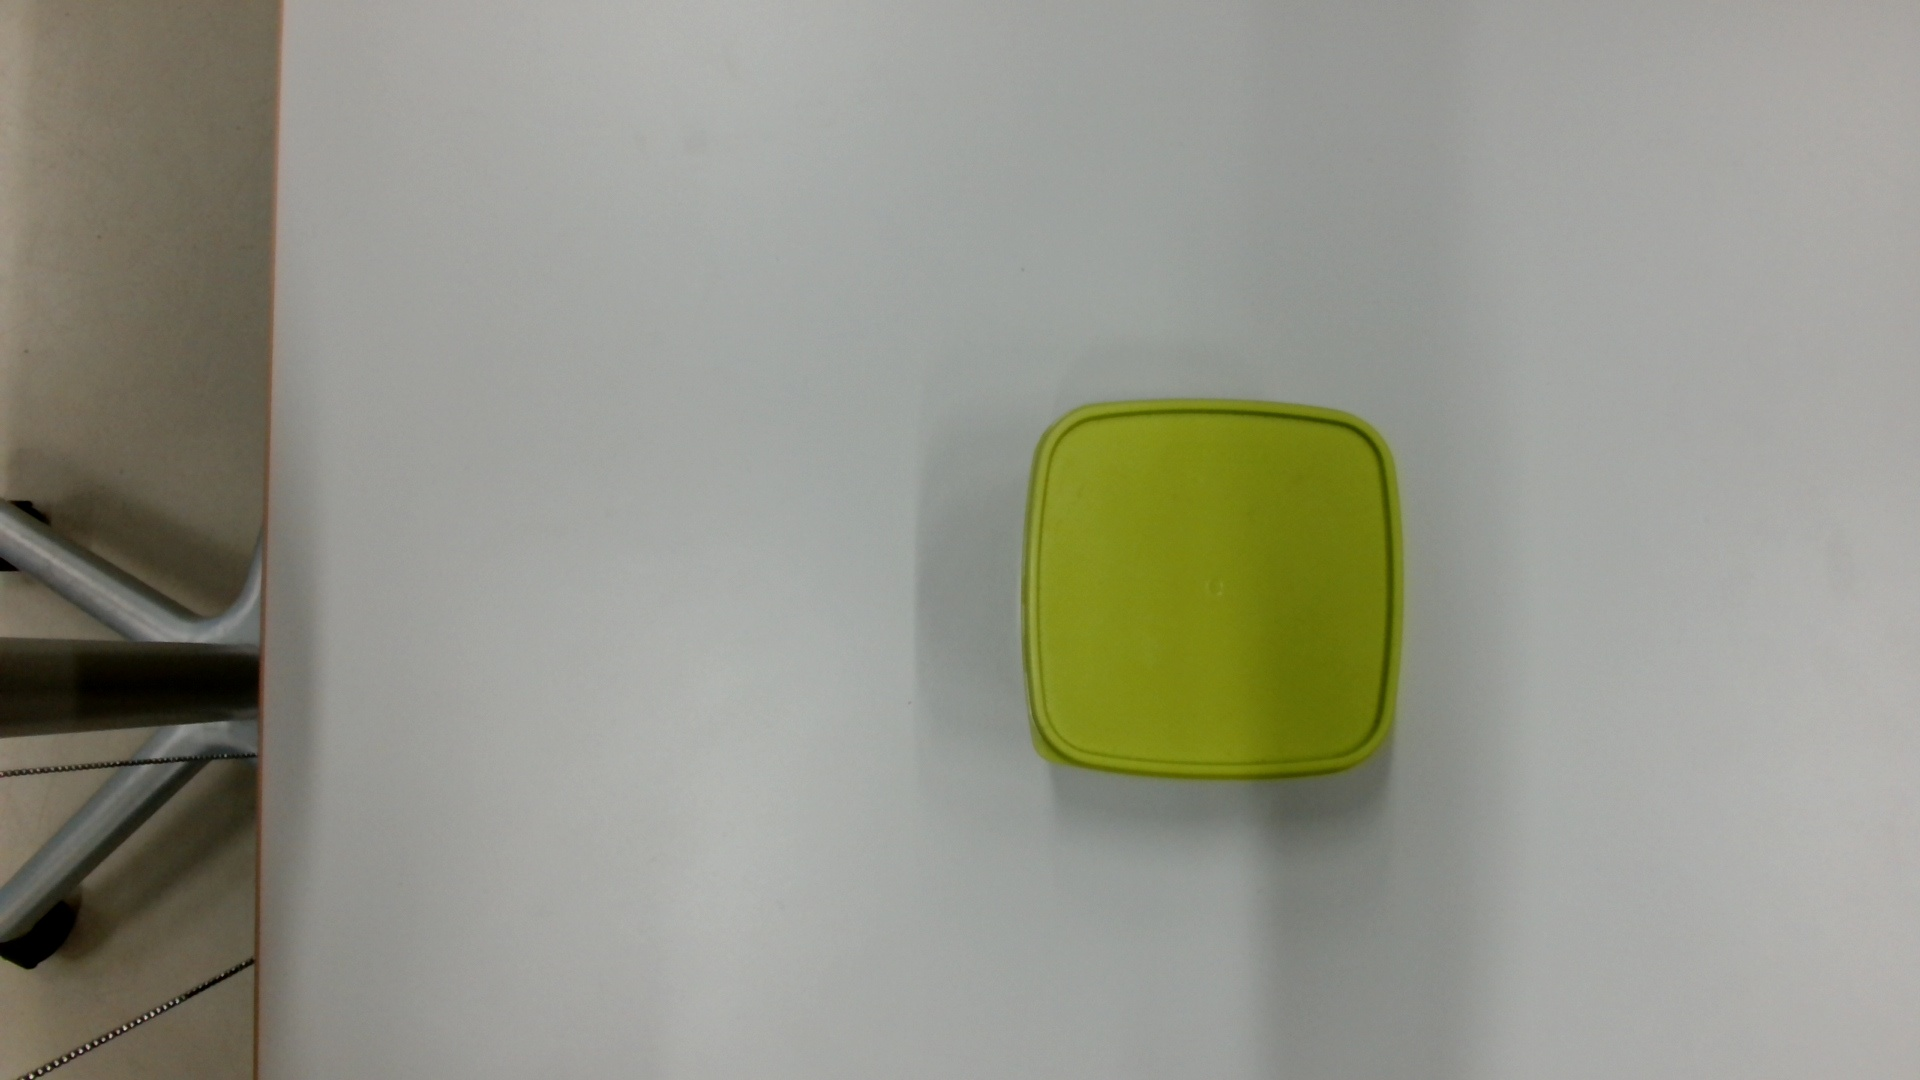Box: (1014, 392, 1412, 795)
